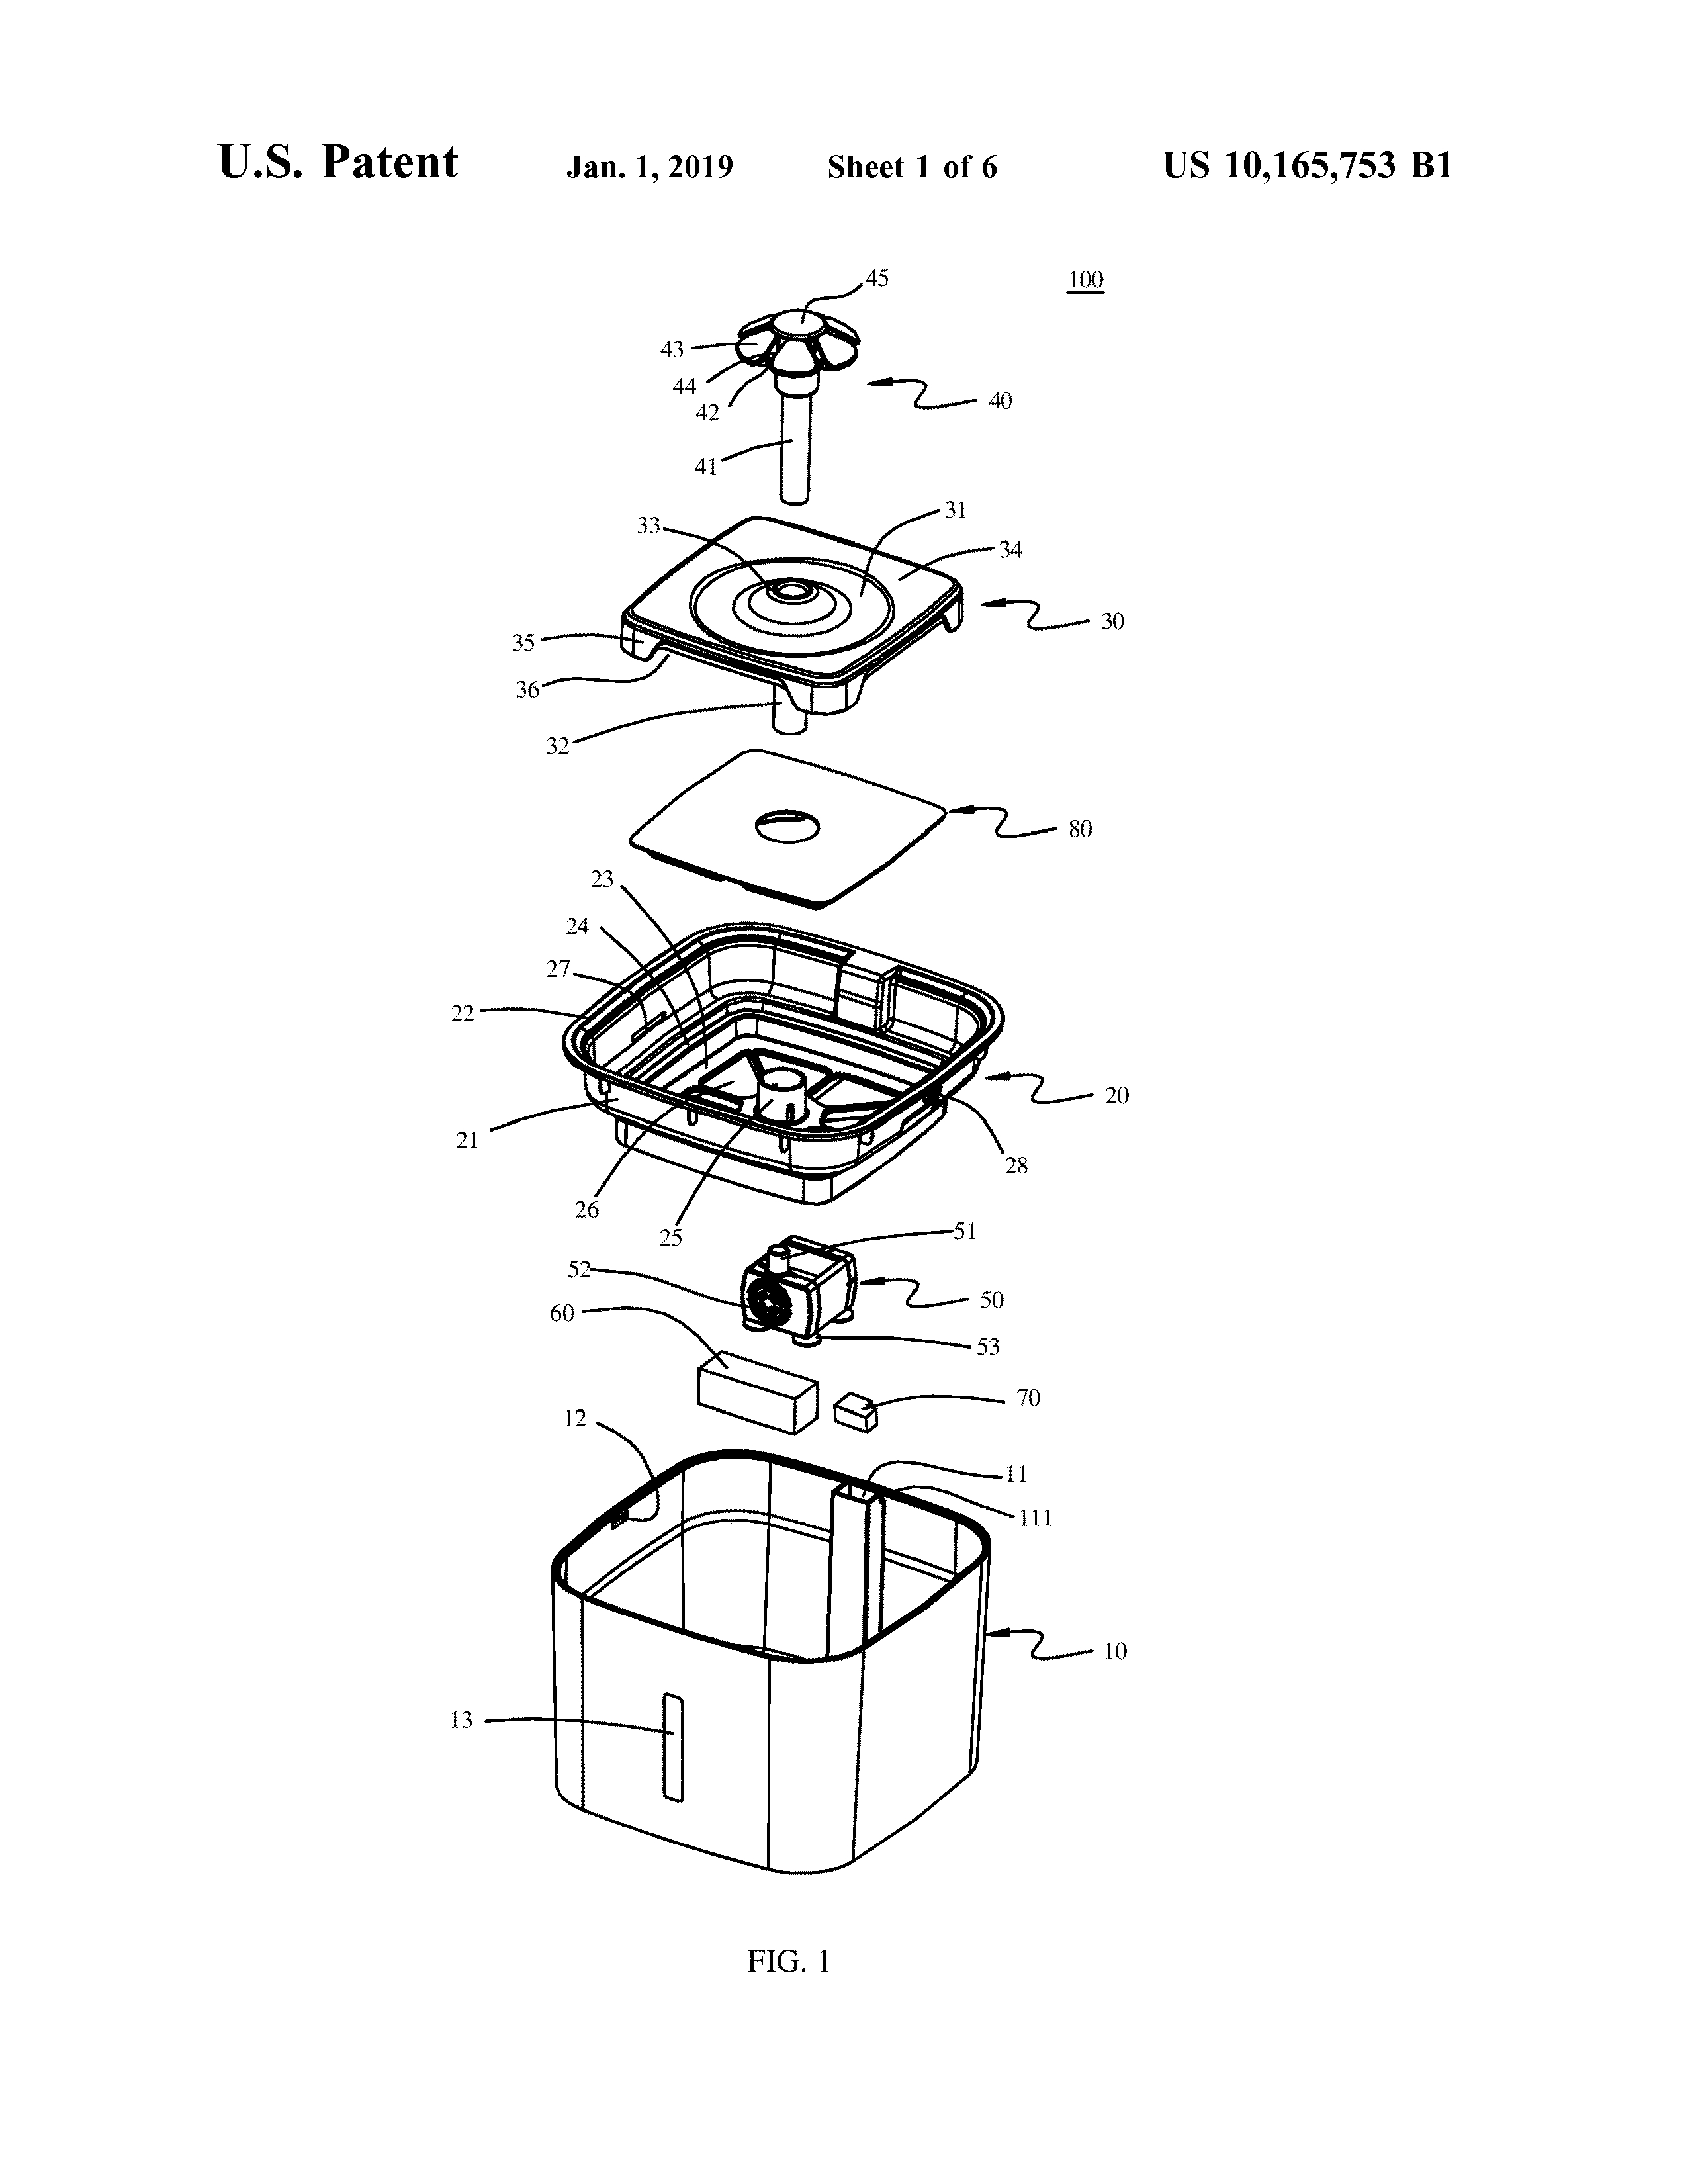patent image: (423, 220, 1257, 2013)
